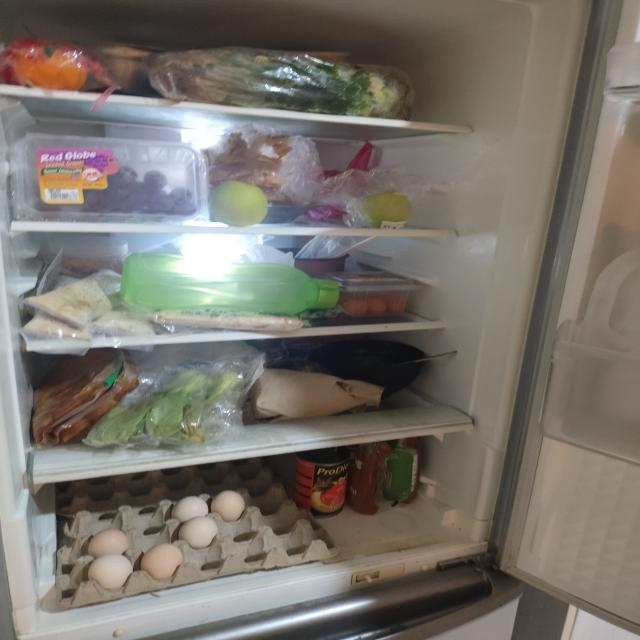apple: (211, 181, 268, 226), (365, 189, 411, 229)
egg: (55, 458, 341, 608)
grape: (14, 134, 209, 222)
leafy_greens: (165, 46, 412, 120)
orange: (14, 46, 87, 91)
pakchoy: (84, 367, 242, 448)
tempeh: (26, 268, 157, 342), (152, 307, 304, 332)
